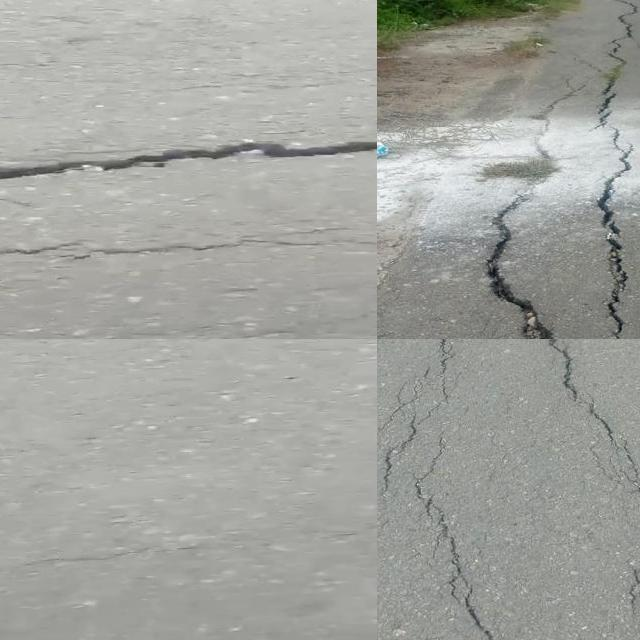Melintang: (0, 117, 377, 190)
Memanjang: (538, 339, 640, 640), (389, 471, 501, 640), (590, 0, 640, 339), (470, 185, 560, 339)
